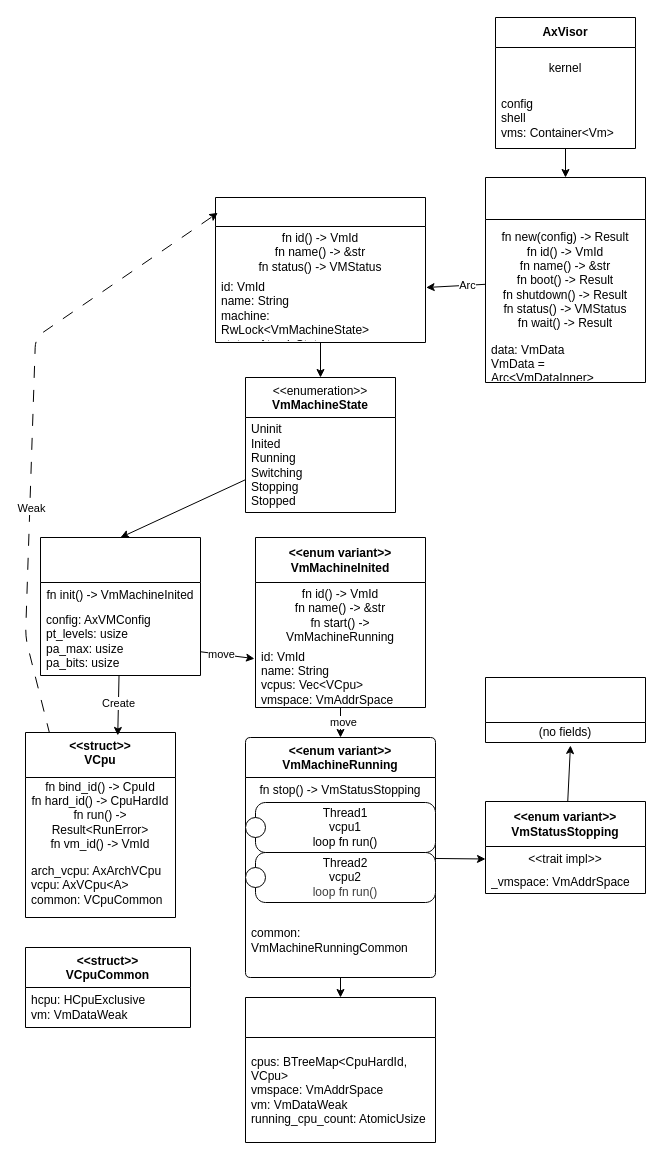
The diagram is 663 pixels wide and 1160 high, and some of its shapes have lost their labels. The shapes that lost their labels are listed below. From the top down, each one's box as (x1, y1, x2, y2) in pixels, then its label:
(214, 196, 426, 342): VmDataInner
(484, 176, 646, 382): <<struct>> Vm
(40, 536, 200, 676): <<enum variant>> VmMachineUninit
(484, 676, 646, 742): <<enum variant>> Stopped (unit)
(244, 996, 436, 1142): <<struct>> VmMachineRunningCommon
